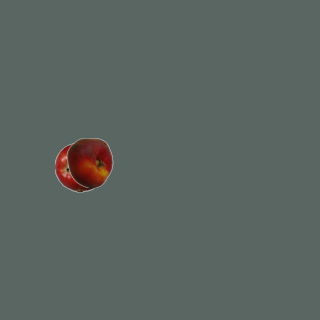Apple Braeburn: (54, 142, 104, 192)
Nectarine Flat: (64, 137, 114, 187)
